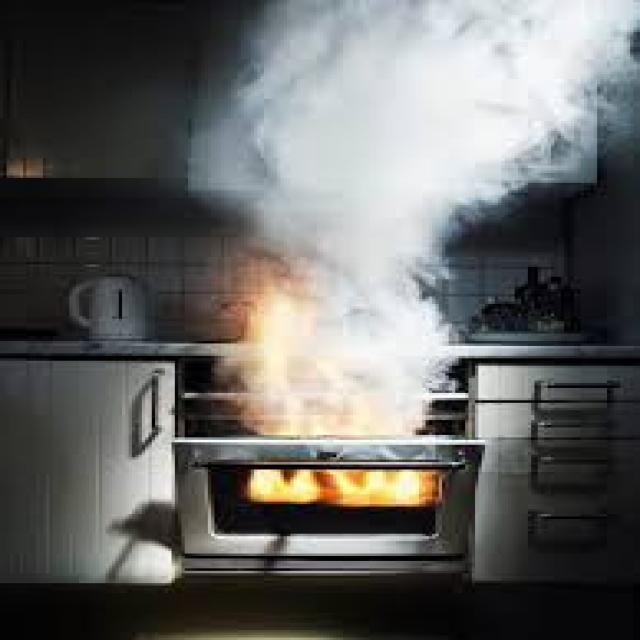fire: (366, 471, 421, 506), (324, 468, 364, 504), (249, 468, 287, 502)
